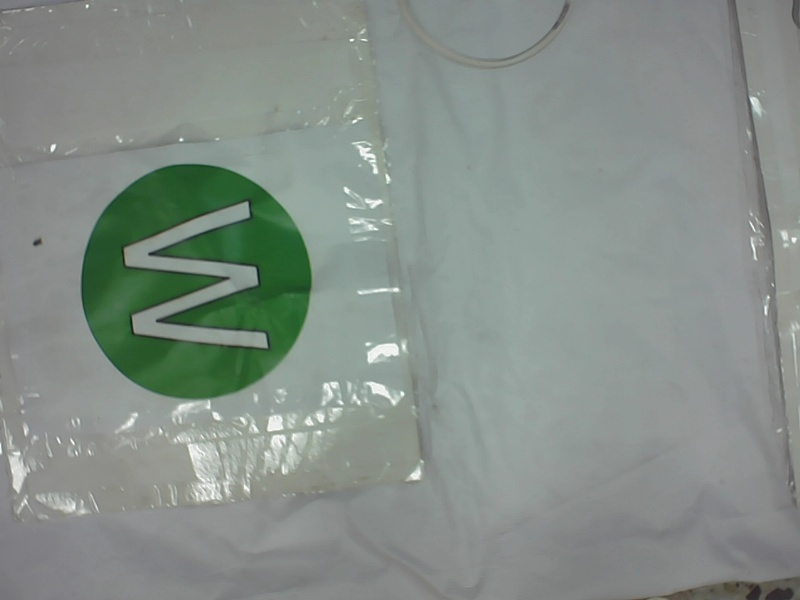areaB: (68, 163, 318, 403)
